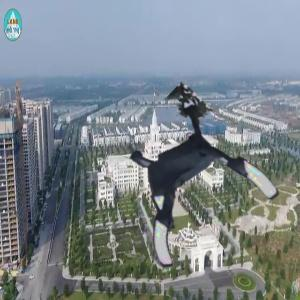drone: (111, 112, 262, 263)
